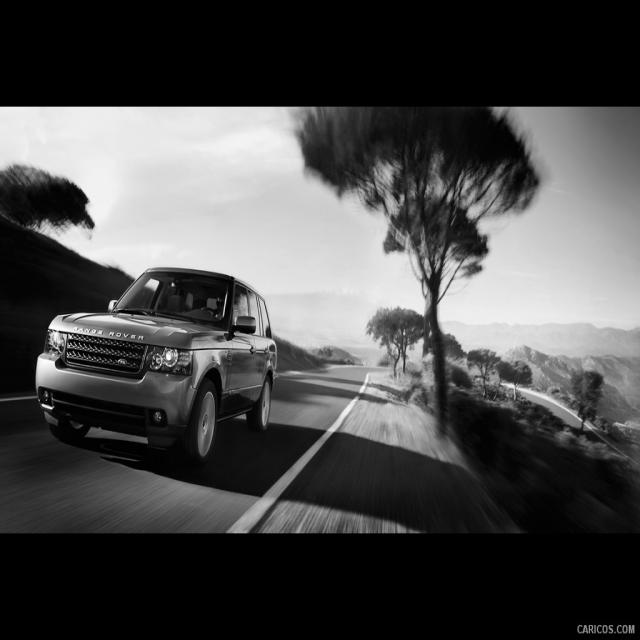car: (35, 265, 277, 464)
